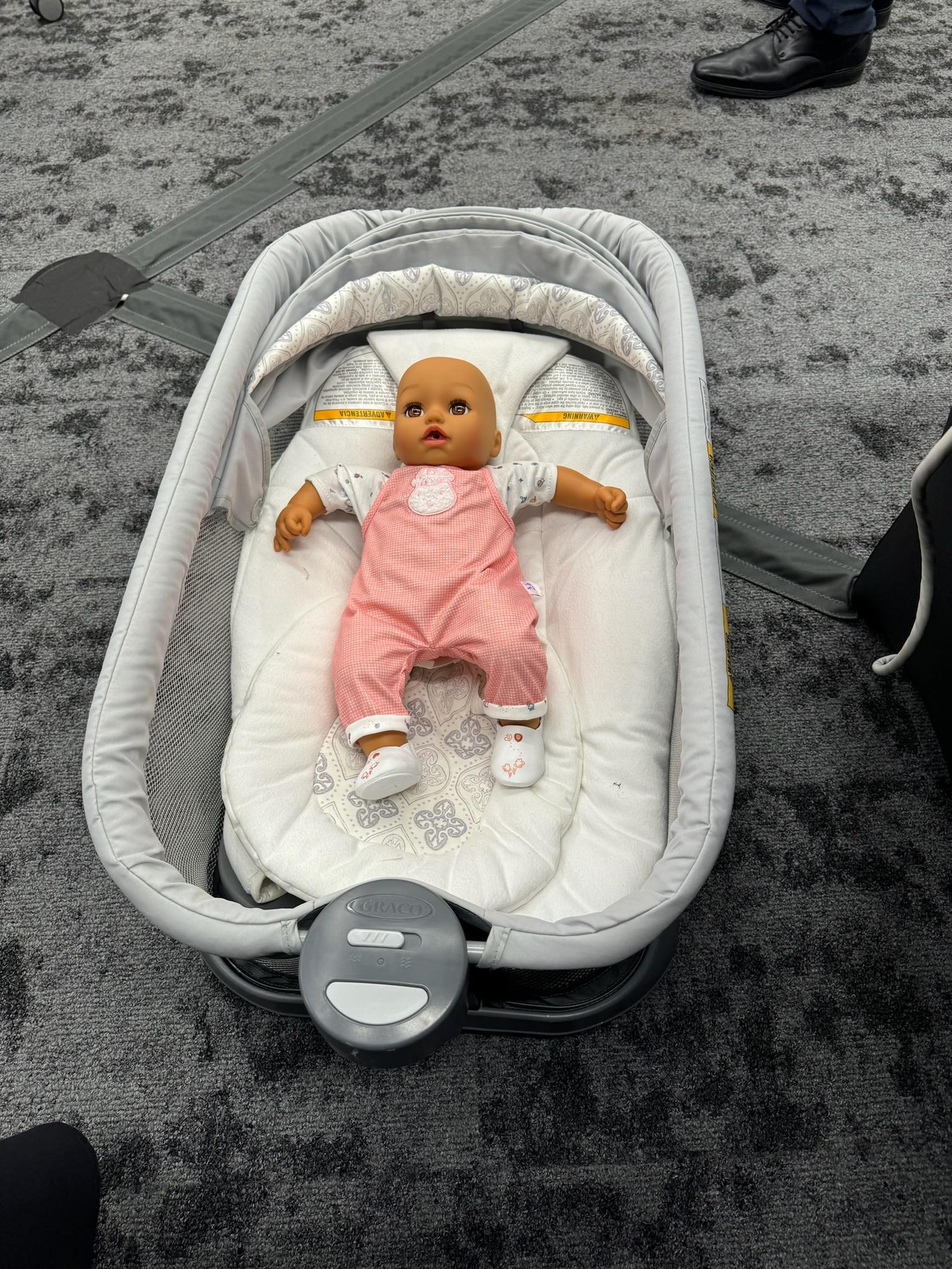baby: (281, 355, 616, 795)
